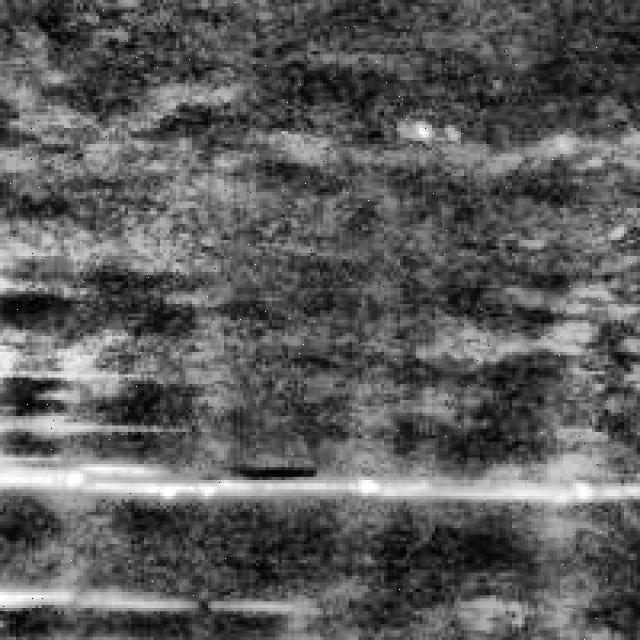Inclusion: (0, 441, 630, 505), (0, 576, 275, 614)
